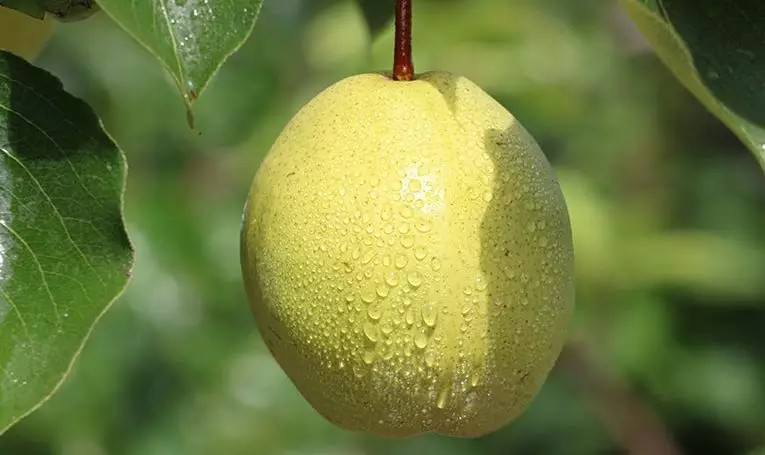pear: (241, 71, 580, 441)
